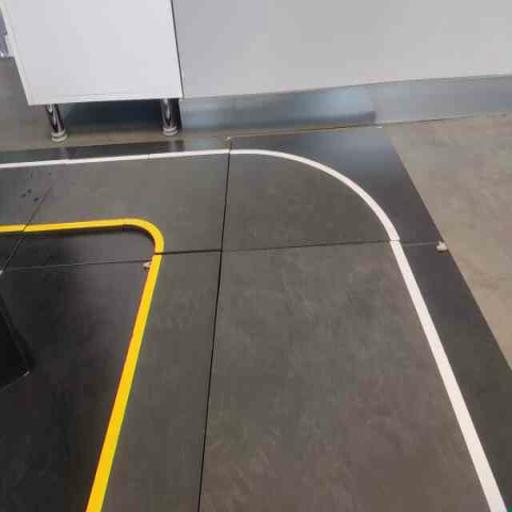straight: (77, 239, 496, 508)
